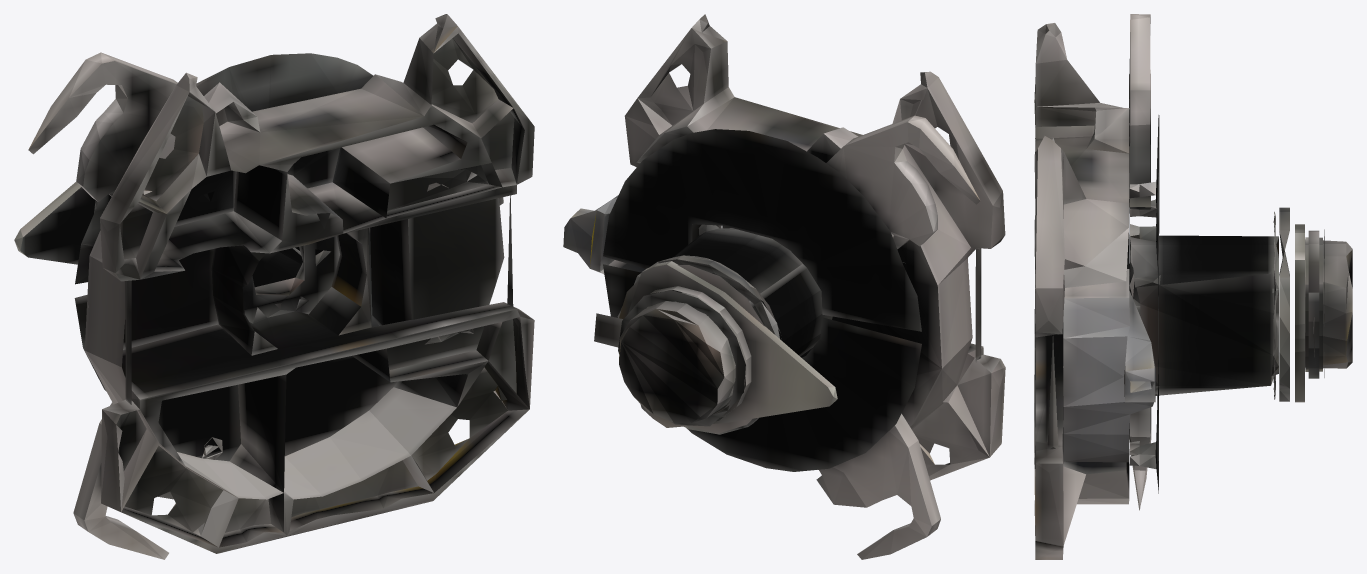
File: Arm_LINK_5.gltf
3 views of the same model, side by side, from view 1: azimuth 30°, elevation 25°; view 2: azimuth 150°, elevation 25°; view 3: azimuth 270°, elevation 25° (orthographic). The views are drawn at different scales.
Visible parts, largest first — view 1: Mesh_0; view 2: Mesh_0; view 3: Mesh_0.
Boxes of the visible parts, x1=… form: Mesh_0: x1=14, y1=14, x2=534, y2=559; Mesh_0: x1=563, y1=14, x2=1005, y2=559; Mesh_0: x1=1034, y1=14, x2=1352, y2=559.
Bounding box in the file's own units: 0.2854 × 0.3082 × 0.1863.
Materials: 1 (1 with a texture image).
